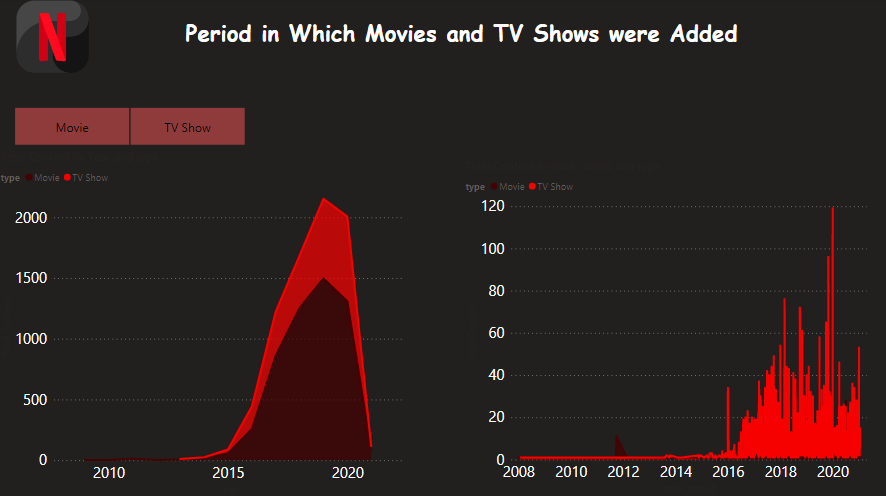

The page's visual inventory and layout, read from the dashboard file:
{"tool":"powerbi","page":{"name":"Report1","canvas":[1280,720],"ordinal":3},"visuals":[{"type":"stackedAreaChart","fields":{"Category":["netflix_titles.date_added","Date.Date.Variation.Date Hierarchy.Year","Date.Date.Variation.Date Hierarchy.Quarter","Date.Date.Variation.Date Hierarchy.Month","Date.Date.Variation.Date Hierarchy.Day"],"Series":["netflix_titles.type"],"Y":["Date.COUNT"]},"box":[0,220.1,599.7,500.6],"z":0},{"type":"stackedAreaChart","fields":{"Category":["netflix_titles.date_added","Date.Date.Variation.Date Hierarchy.Year","Date.Date.Variation.Date Hierarchy.Quarter","Date.Date.Variation.Date Hierarchy.Month","Date.Date.Variation.Date Hierarchy.Day"],"Series":["netflix_titles.type"],"Y":["Date.COUNT"]},"box":[668.6,233.5,599.7,487.1],"z":1000},{"type":"image","box":[13.4,0,134.4,114.2],"z":2000},{"type":"slicer","fields":{"Values":["netflix_titles.type"]},"box":[0,152.9,379.6,67.2],"z":3000},{"type":"textbox","box":[159.6,23.5,1016.3,68.9],"z":4000}]}

Visuals, with their boxes in screenshot pixels (x1, y1, x2, y2), scaled from the page's 1280x720 canvas onto the 886x496 screenshot:
stackedAreaChart - netflix_titles.date_added x Date.Date.Variation.Date Hierarchy.Year: locate(0, 152, 415, 495)
stackedAreaChart - netflix_titles.date_added x Date.Date.Variation.Date Hierarchy.Year: locate(463, 161, 878, 495)
image: locate(9, 0, 102, 79)
slicer - netflix_titles.type: locate(0, 105, 263, 152)
textbox: locate(110, 16, 814, 64)
